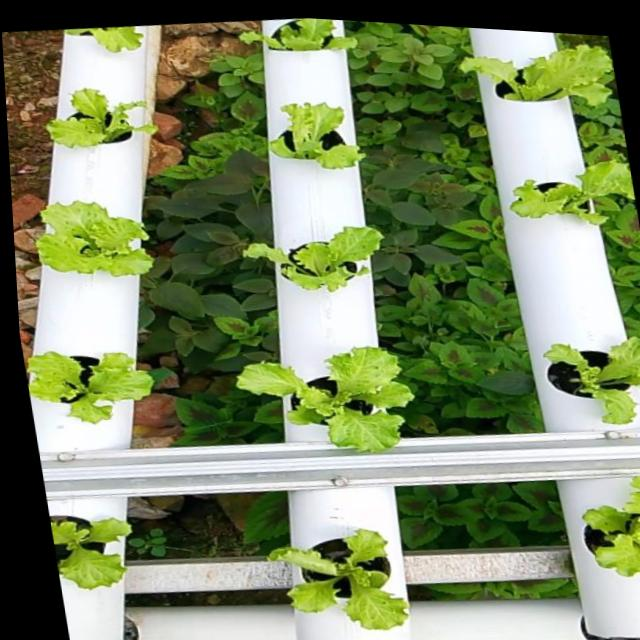Baby: (235, 342, 416, 448), (267, 527, 411, 630), (241, 219, 385, 286), (28, 193, 150, 271), (23, 346, 151, 420), (464, 35, 616, 96), (548, 332, 640, 421), (514, 150, 632, 217), (40, 78, 153, 139), (267, 92, 366, 160), (50, 515, 127, 589), (588, 489, 640, 575)
